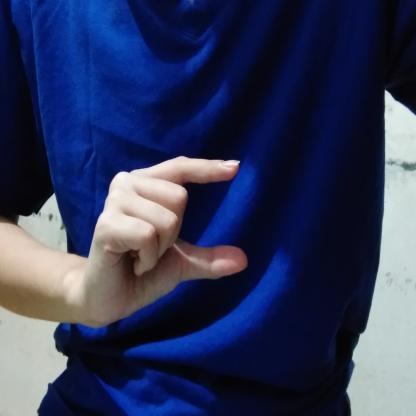small: (78, 150, 256, 332)
